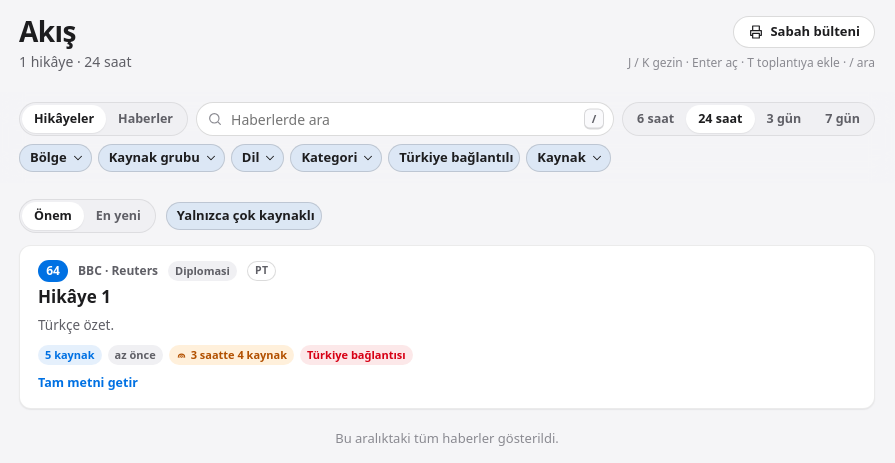
Test case: The user's AI languages › steps a card through Turkish, Portuguese and Arabic, right to left for Arabic
The width and height of the screenshot is (895, 463).
What coordinates should you click on to do the following:
click the button with aria-label "Göster: Portekizce"
I would click on:
 (262, 271)
Its box is [247,261,276,281].
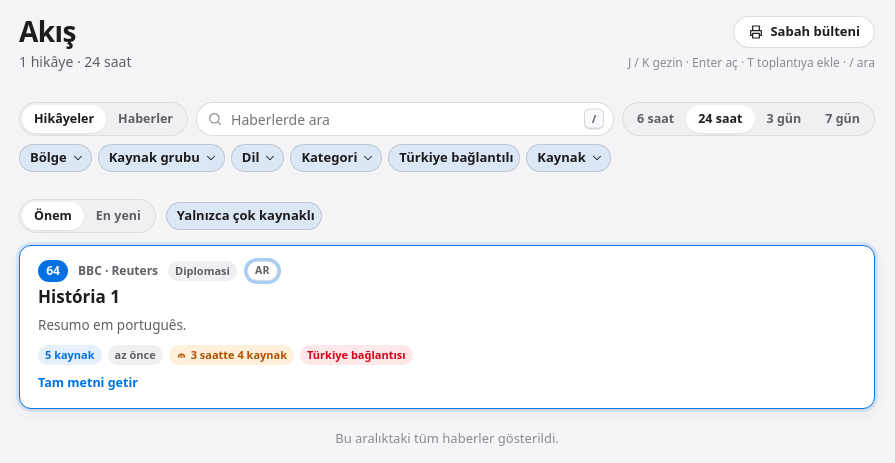
Now the button "Resumo em português." is shown, box [38,316,186,334]
What coordinates should you click on to do the following:
click the button with aria-label "Göster: Arapça"
I would click on:
 (262, 271)
Its box is [247,261,278,281].
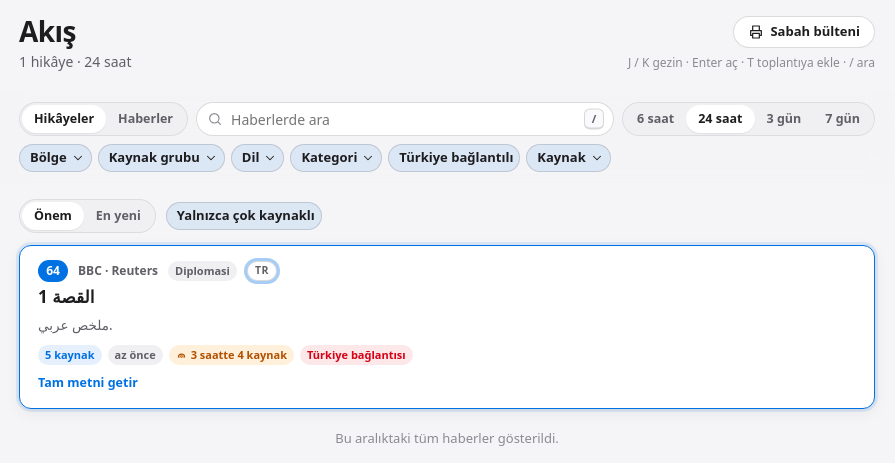
Now the heading "القصة 1" has attribute dir="rtl", box [38,286,94,309]
What coordinates should you click on to do the following:
click the button with aria-label "Göster: Türkçe"
I would click on:
 (262, 271)
Its box is [247,261,277,281].
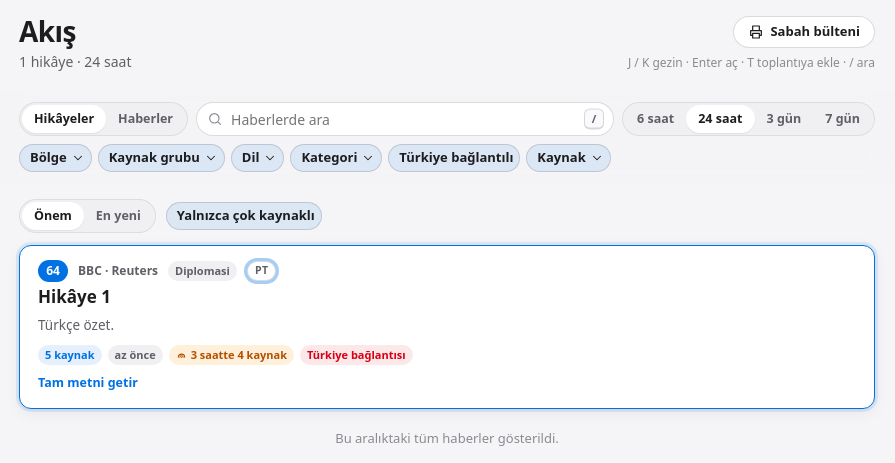
Now the button "Hikâye 1" is shown, box [38,286,111,309]
